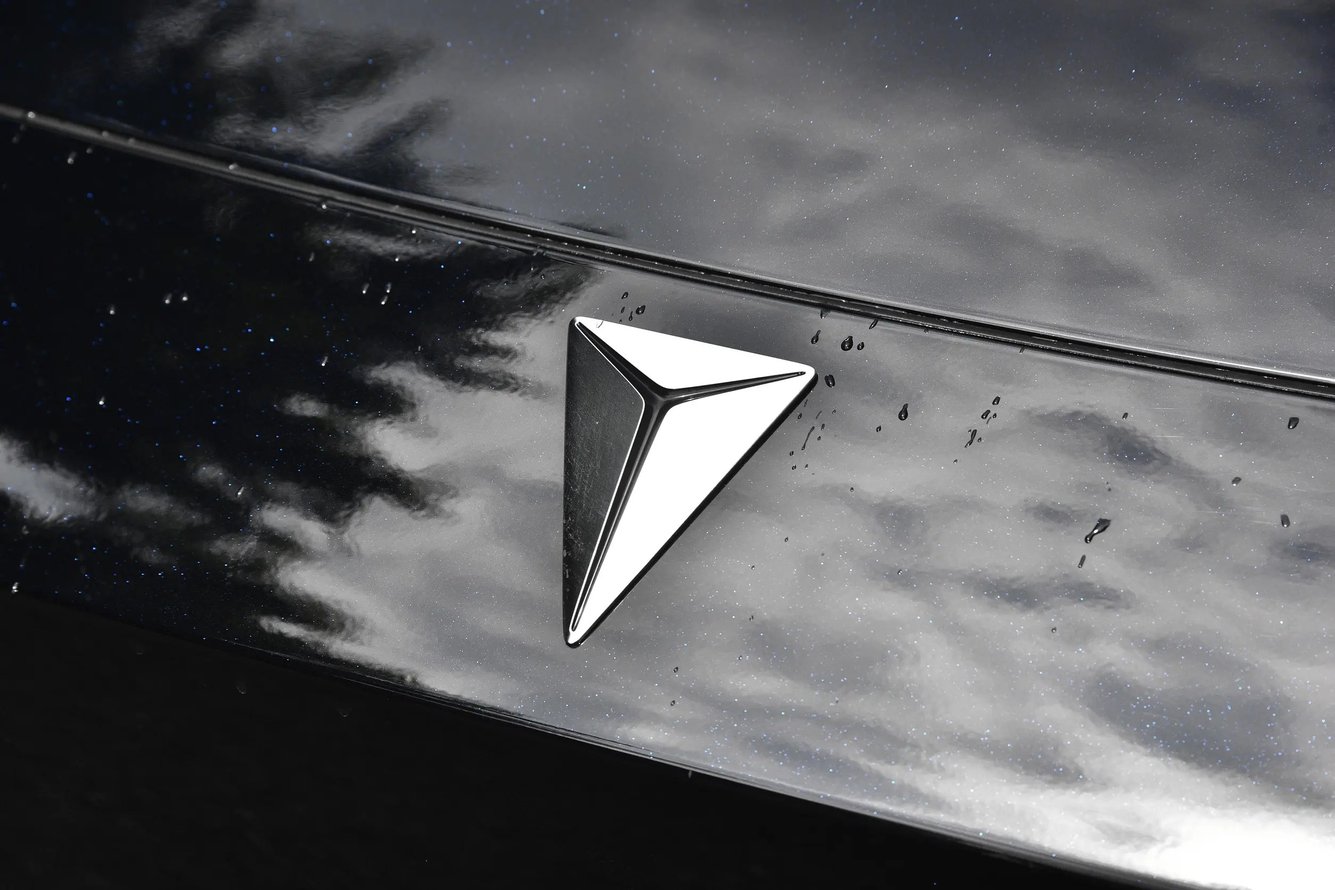Deepal: (564, 316, 816, 647)
